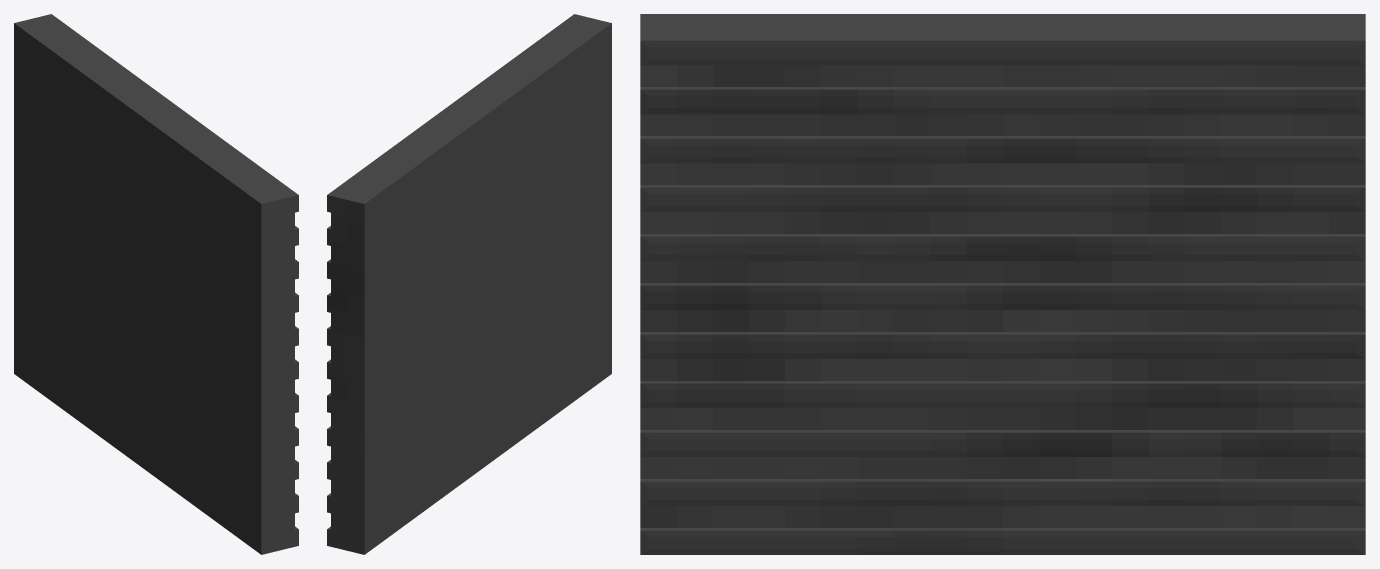
Rendered from shutter.fbx.
3 renders of one model, left to right at view 1: azimuth 30°, elevation 25°; view 2: azimuth 150°, elevation 25°; view 3: azimuth 270°, elevation 25°, orthographic. The views are drawn at different scales.
Visible parts, largest first — view 1: Cube; view 2: Cube; view 3: Cube.
Part boxes in pixels (x1=…): Cube: x1=14, y1=14, x2=298, y2=554; Cube: x1=327, y1=14, x2=611, y2=554; Cube: x1=640, y1=14, x2=1365, y2=554.
Size of the model in its own units: 10.99 by 97.47 by 125.
Materials: 1 (1 with a texture image).
